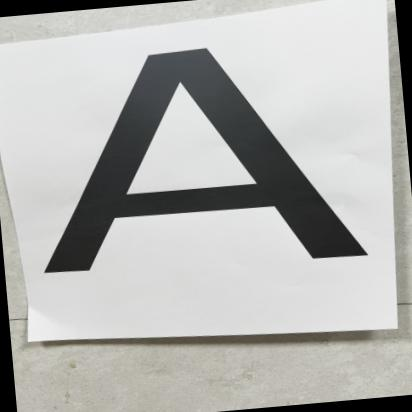seat: (16, 19, 392, 308)
